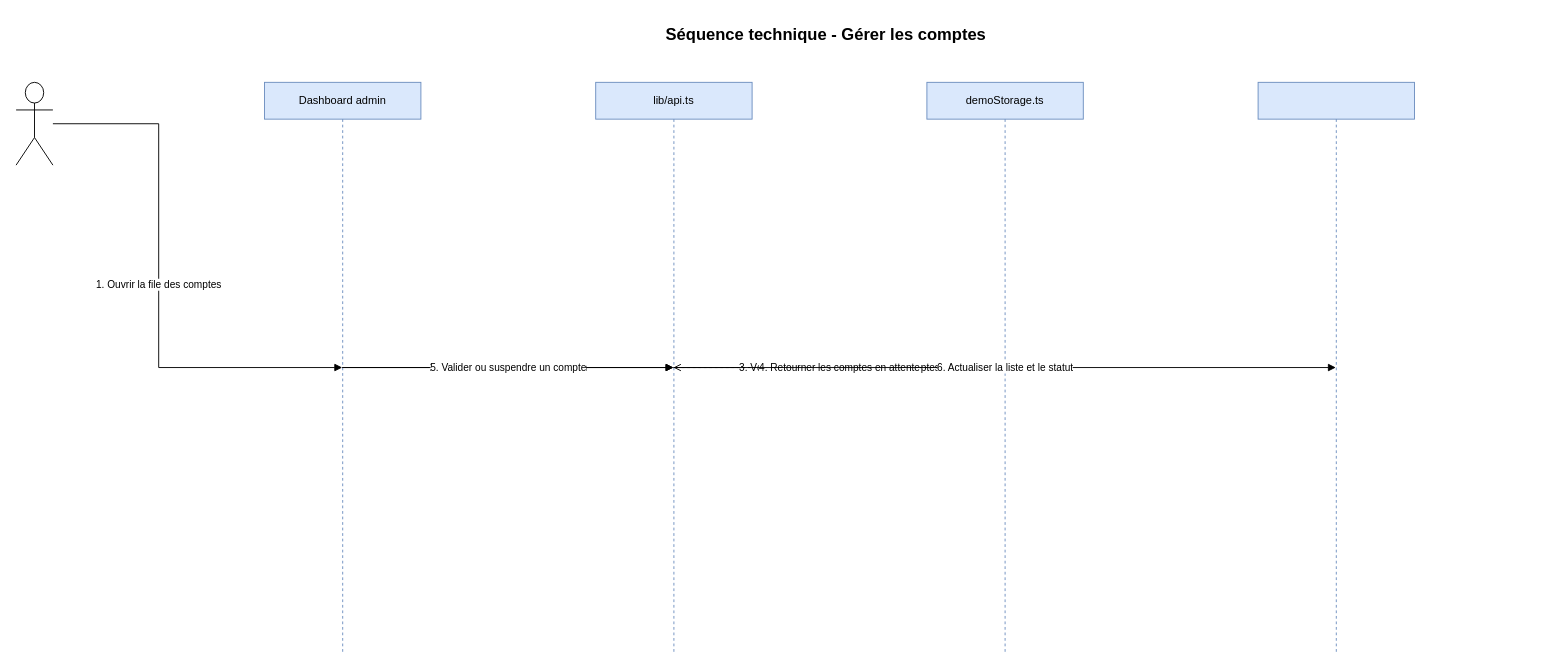
The diagram is 1559 pixels wide and 669 high, and some of its shapes have lost their labels. Here are the shapes that lost their labels. From the top down, the box of each, then its label:
(15, 81, 53, 165): Admin
(1257, 81, 1414, 653): Comptes modérés
